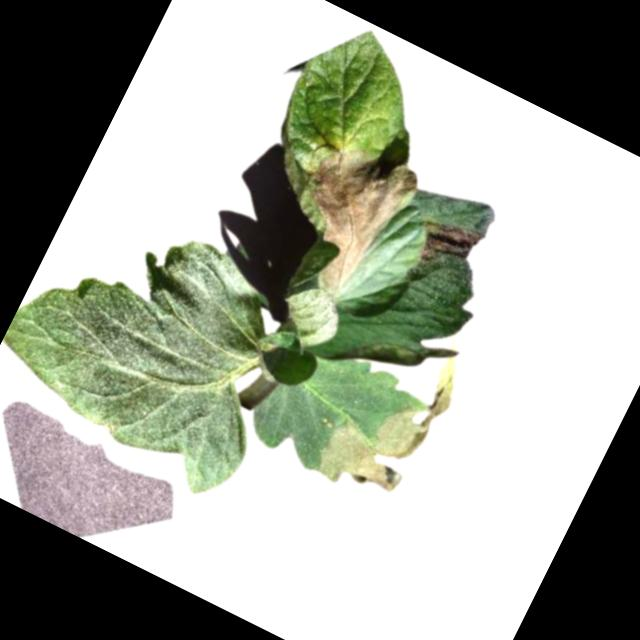Late_blight: (268, 128, 423, 302), (309, 346, 458, 513), (407, 207, 485, 280)
